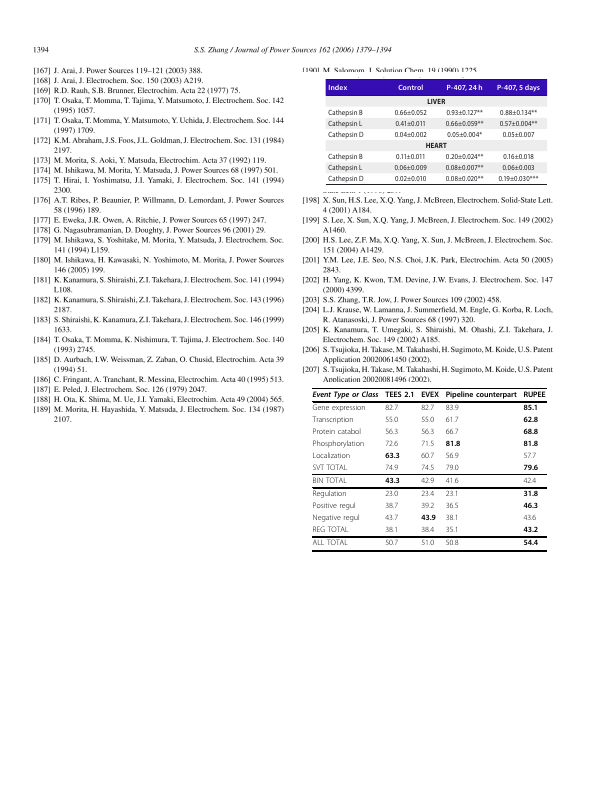borderless: (311, 387, 546, 550), (326, 77, 547, 184)
cell: (445, 391, 518, 400), (312, 391, 379, 400), (312, 404, 366, 414), (312, 440, 365, 450), (312, 428, 362, 438), (312, 514, 361, 524), (312, 502, 357, 512), (312, 416, 354, 426), (496, 83, 541, 92), (312, 452, 351, 462), (497, 175, 539, 184), (312, 526, 349, 536), (312, 477, 348, 487), (312, 490, 348, 500), (445, 108, 484, 117), (499, 108, 538, 117), (445, 119, 484, 128), (499, 119, 538, 128), (445, 153, 484, 162), (445, 164, 484, 173), (445, 175, 484, 184), (446, 83, 484, 92), (327, 108, 364, 117), (327, 130, 364, 139), (446, 130, 483, 139), (327, 153, 364, 162), (327, 175, 364, 184), (312, 540, 349, 549), (327, 119, 363, 128), (327, 164, 363, 173), (312, 464, 348, 473), (393, 164, 428, 173), (501, 164, 536, 173), (394, 108, 428, 117), (394, 130, 428, 139), (394, 119, 427, 128), (502, 130, 535, 139), (502, 153, 535, 162), (394, 175, 427, 184), (395, 153, 426, 162), (384, 391, 415, 400), (397, 83, 424, 92), (522, 391, 547, 400), (327, 83, 348, 92), (420, 391, 440, 400), (522, 490, 539, 500), (522, 502, 539, 512), (420, 514, 437, 524), (522, 526, 539, 536), (425, 142, 448, 149), (522, 404, 539, 413), (522, 416, 539, 425), (522, 428, 539, 437), (522, 440, 539, 449), (384, 452, 401, 461), (522, 464, 539, 473), (384, 477, 401, 486), (522, 540, 539, 549), (384, 404, 399, 414), (420, 404, 435, 414), (384, 416, 399, 426), (420, 416, 435, 426), (384, 428, 399, 438), (420, 428, 435, 438), (384, 440, 399, 450), (420, 440, 435, 450), (420, 452, 435, 462), (522, 452, 537, 462), (420, 477, 435, 487), (522, 477, 537, 487), (384, 490, 399, 500), (420, 490, 435, 500), (384, 502, 399, 512), (420, 502, 435, 512), (384, 514, 399, 524), (522, 514, 537, 524), (384, 526, 399, 536), (420, 526, 435, 536), (445, 440, 461, 449), (426, 97, 446, 104), (445, 404, 459, 414), (445, 416, 459, 426), (445, 428, 459, 438), (445, 452, 459, 462), (445, 477, 459, 487), (445, 490, 459, 500), (445, 502, 459, 512), (445, 514, 459, 524), (445, 526, 459, 536), (384, 464, 399, 473), (420, 464, 435, 473), (384, 540, 399, 549), (420, 540, 435, 549), (445, 464, 459, 473), (445, 540, 459, 549)
